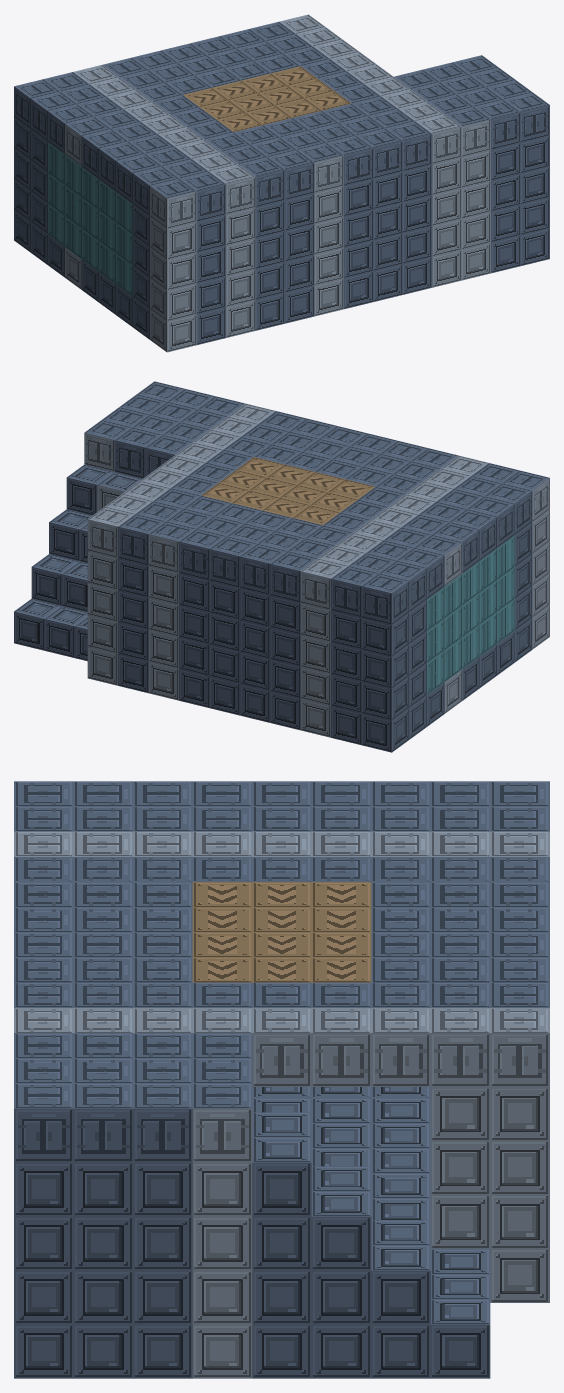
File: cargo_wreck.glb
3 views of the same model, one above another, from view 1: azimuth 30°, elevation 25°; view 2: azimuth 150°, elevation 25°; view 3: azimuth 270°, elevation 25° (orthographic). The views are drawn at different scales.
Visible parts, largest first — view 1: VF_cargo_wreck_Body.002; view 2: VF_cargo_wreck_Body.002; view 3: VF_cargo_wreck_Body.002.
Boxes of the visible parts, box(x1,y1,x2,y2) form: VF_cargo_wreck_Body.002: box(14, 14, 549, 352); VF_cargo_wreck_Body.002: box(14, 381, 549, 752); VF_cargo_wreck_Body.002: box(14, 781, 549, 1378).
Bounding box in the file's own units: 3.64 × 1.4 × 2.52.
Materials: 4 (4 with a texture image).
